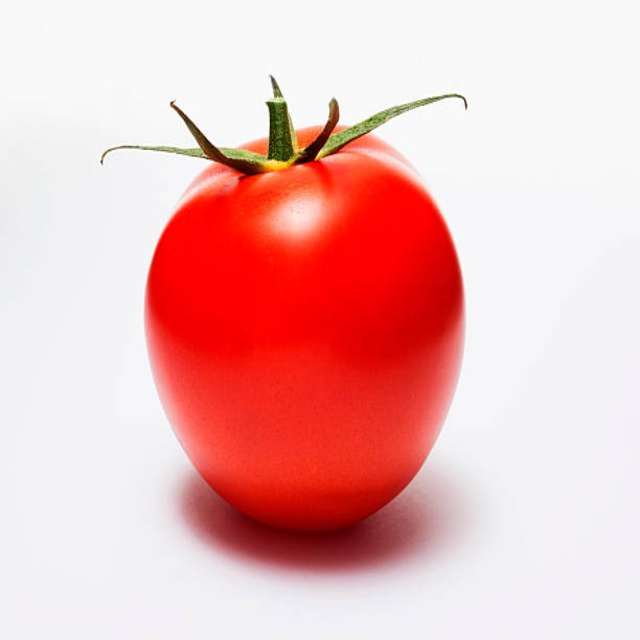tomato: (136, 93, 470, 528)
